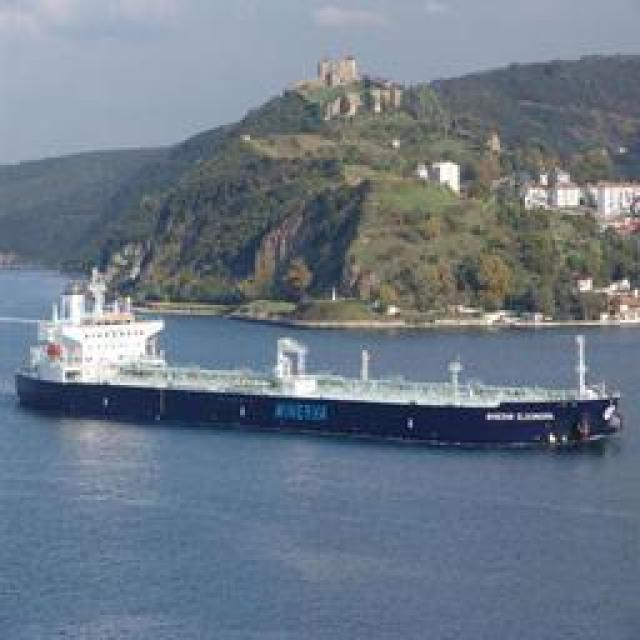CIV_Ship: (5, 278, 633, 446)
